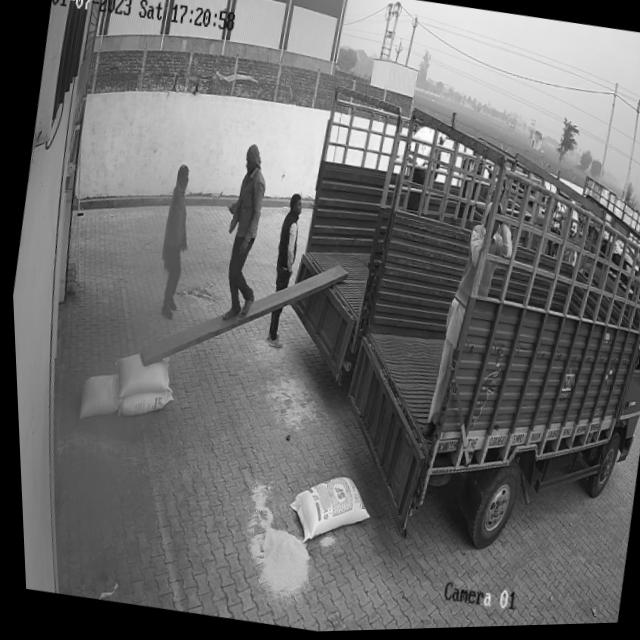sack: (278, 468, 371, 552), (105, 350, 170, 405), (71, 369, 120, 425), (115, 381, 171, 424)
